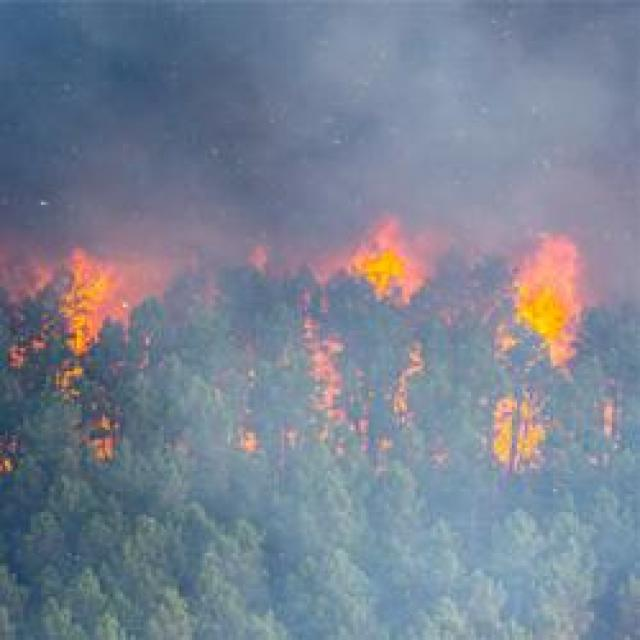fire: (514, 248, 588, 355), (353, 226, 419, 302), (490, 409, 550, 466), (77, 268, 106, 310)
smoke: (77, 120, 264, 241), (490, 466, 606, 636), (513, 53, 610, 144)
